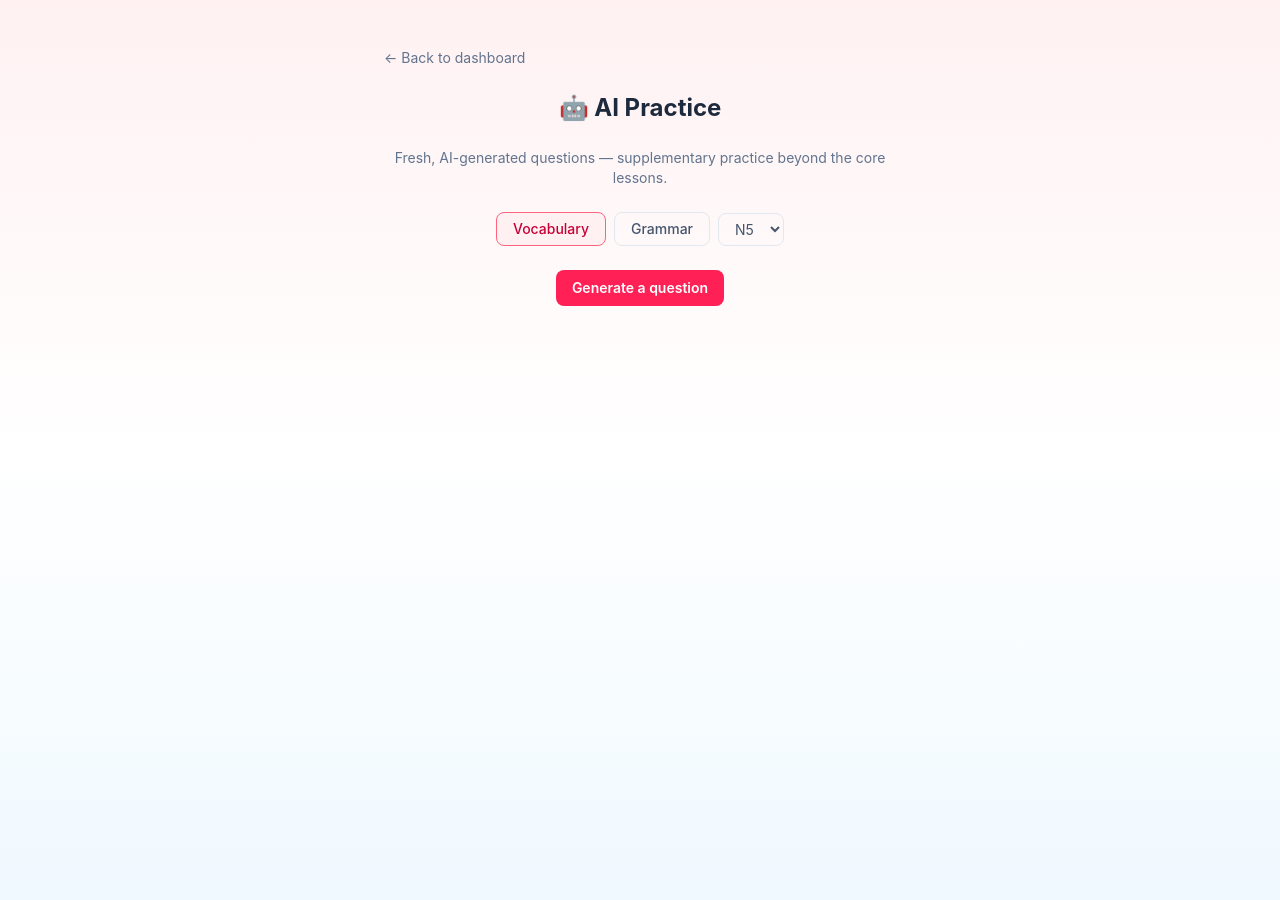
Test case: AIPracticePage › generates a question, submits an answer, and shows the result
Click the button "Generate a question" at coordinates (640, 288), box [556, 270, 724, 306]
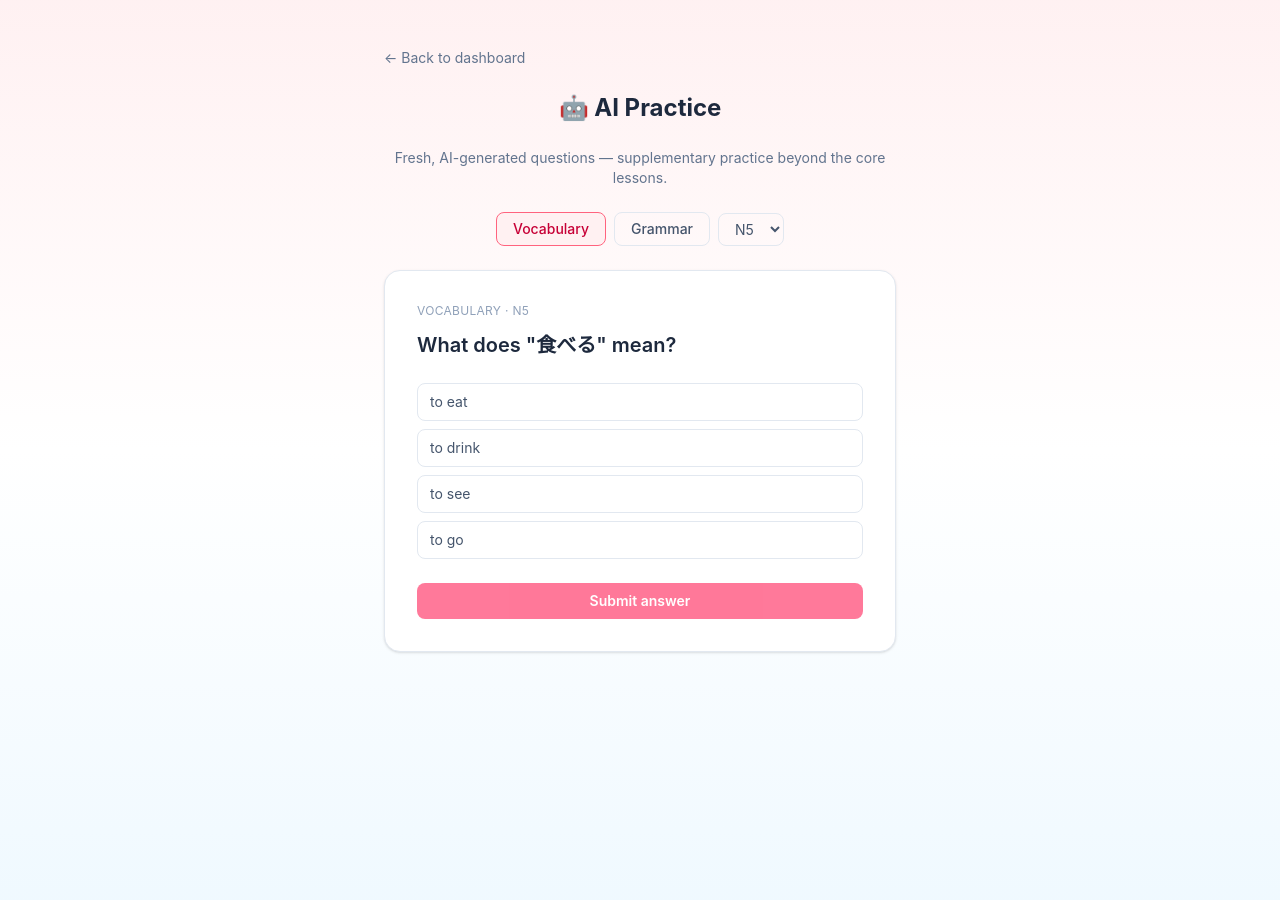
expect the text "What does \"食べる\" mean?" is shown: met, box [417, 333, 676, 357]
Click the radio button labelled "to eat" at coordinates (449, 402), box [417, 383, 863, 421]
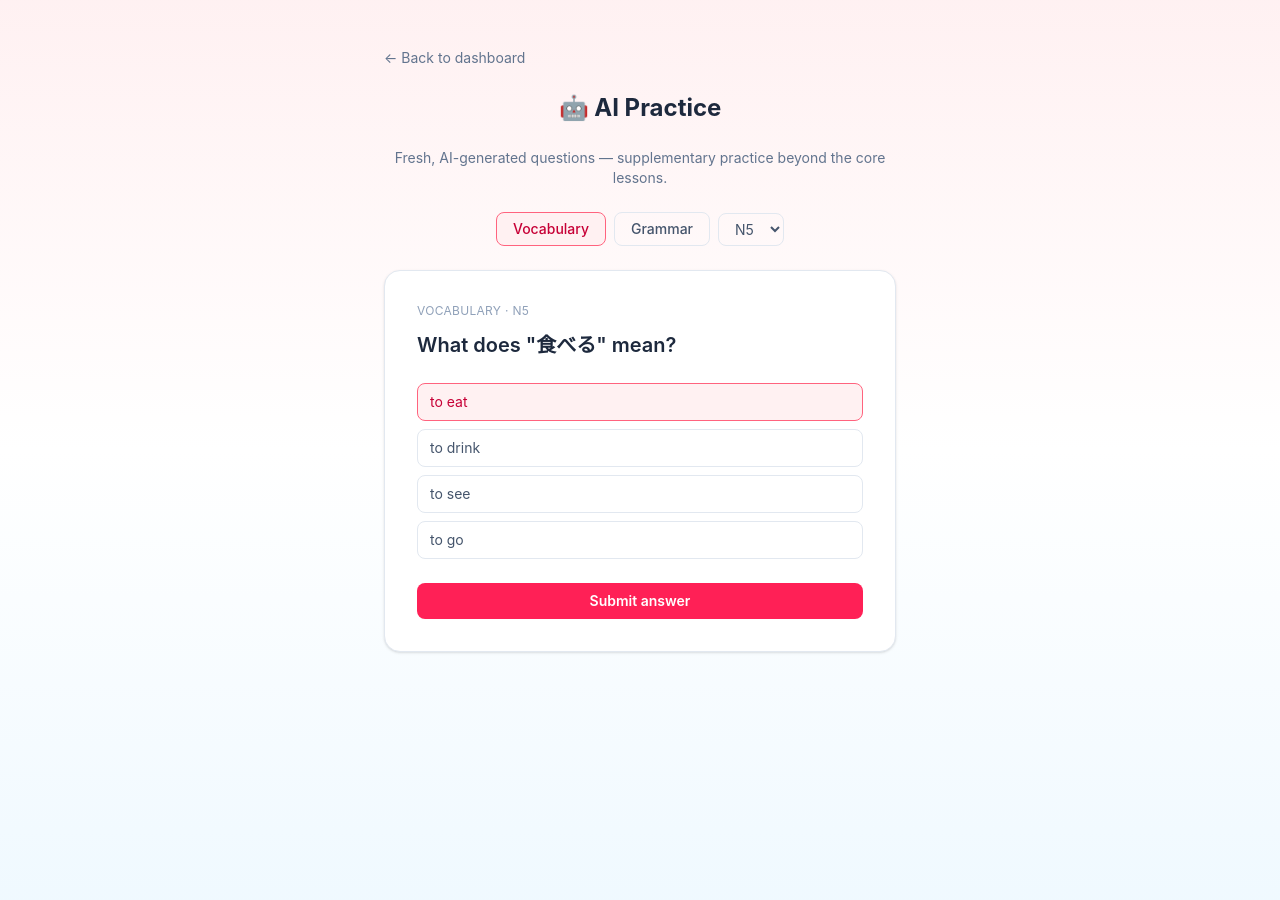
Click the button "Submit answer" at coordinates (640, 601), box [417, 583, 863, 619]
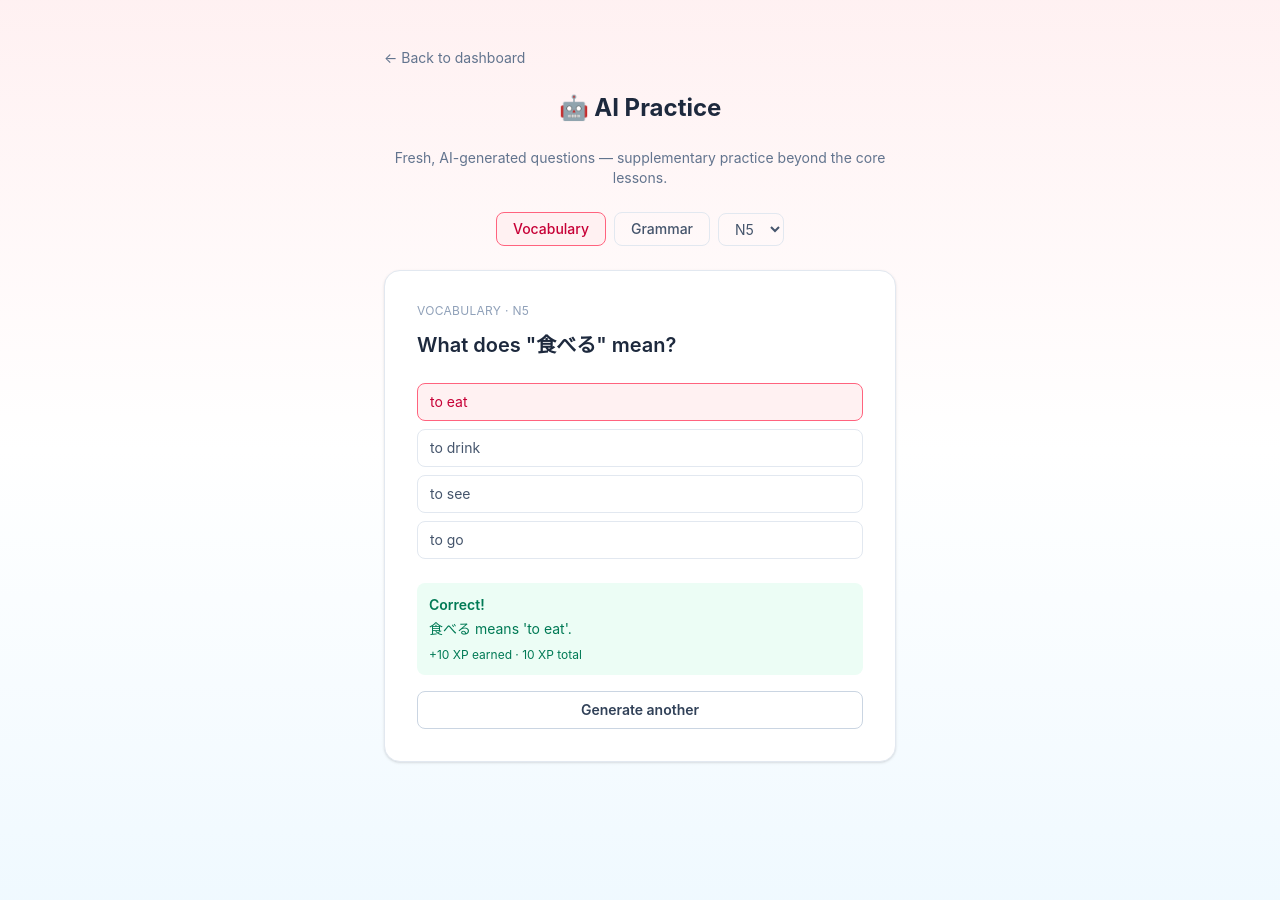
expect the text "Correct!" is shown: met, box [429, 596, 485, 613]
expect the text "食べる means 'to eat'." is shown: met, box [429, 620, 572, 637]
